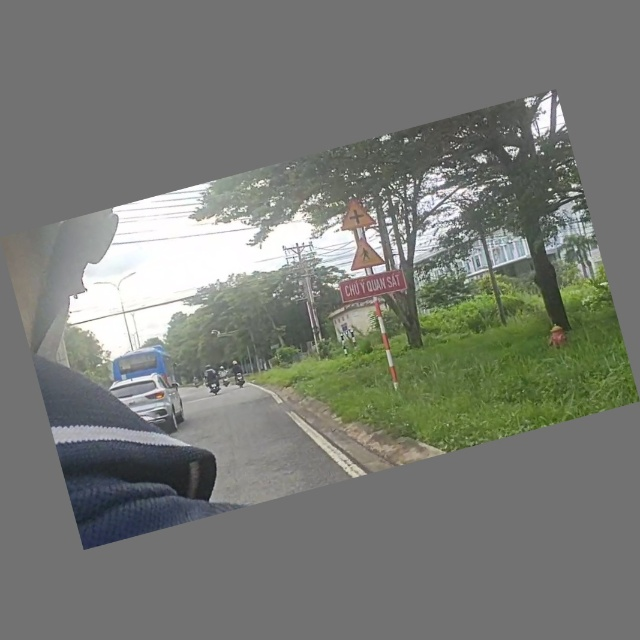W.205a: (334, 193, 381, 234)
W.224: (341, 232, 393, 277)
